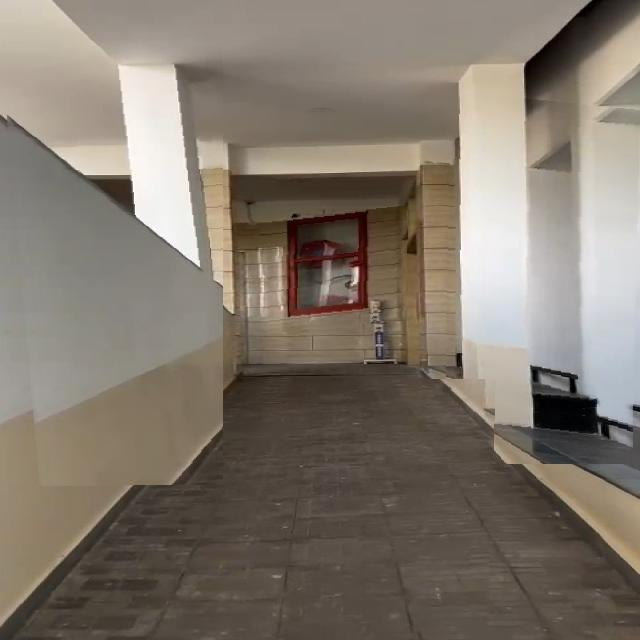door: (267, 206, 409, 334)
floor: (246, 379, 496, 640)
wall: (0, 41, 223, 486), (446, 90, 640, 464)
